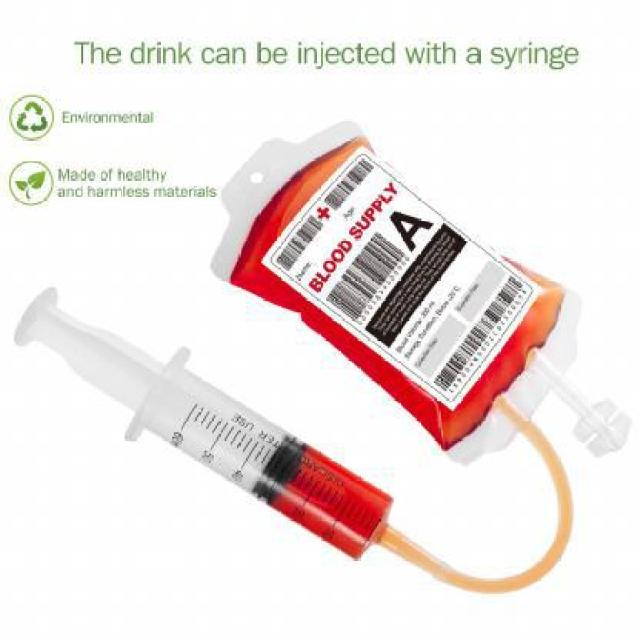B3: (199, 116, 633, 467)
